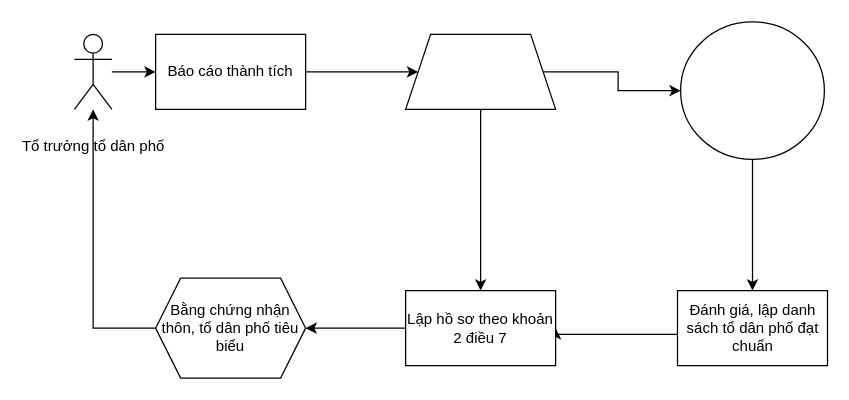
Some shapes in this 849 by 400 pixel diagram are drawn without their labels. The centre of each missing label's shape, as x and y in pixels:
"Họp hội đồng thi đua khen thưởng" belongs at (751,90).
"UBND cấp Xã" belongs at (480,71).
